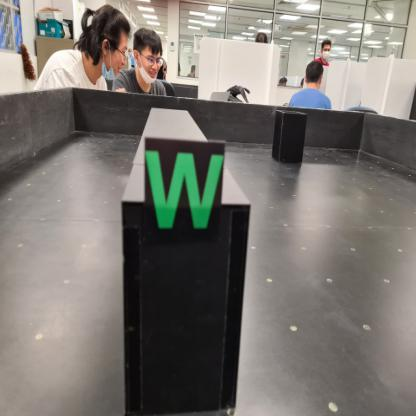w: (144, 136, 227, 241)
